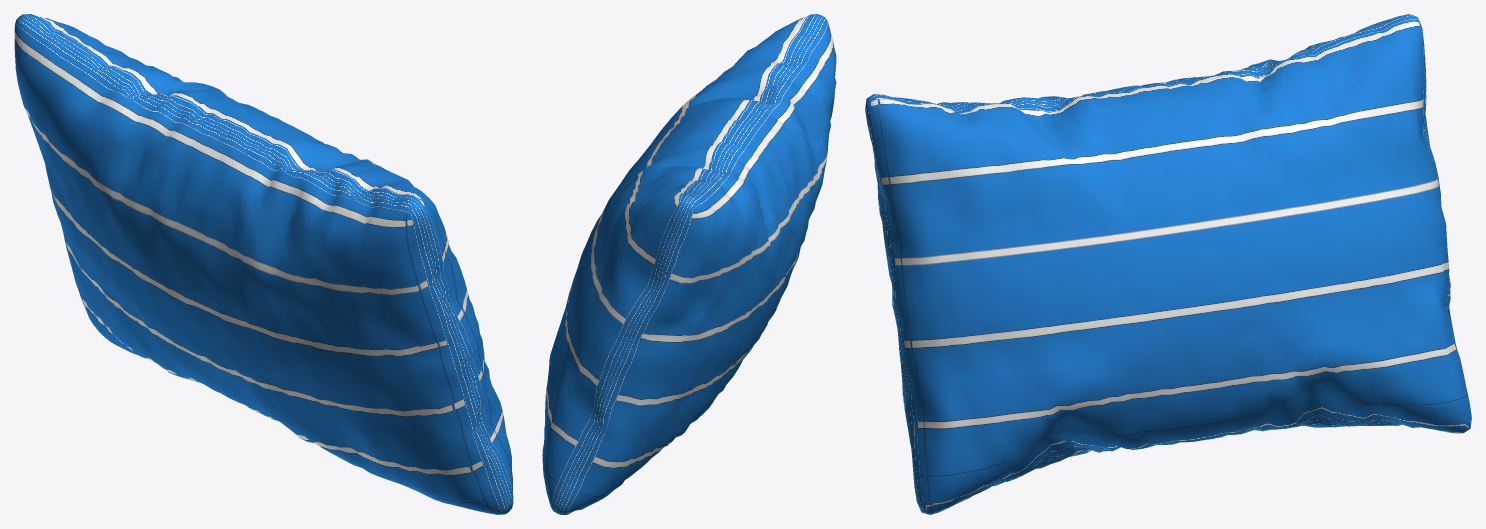
The model's file is pillow22.obj.
3 views of the same model, side by side, from view 1: azimuth 30°, elevation 25°; view 2: azimuth 150°, elevation 25°; view 3: azimuth 270°, elevation 25° (orthographic). The views are drawn at different scales.
Visible parts, largest first — view 1: Cubo.015_Cubo.018; view 2: Cubo.015_Cubo.018; view 3: Cubo.015_Cubo.018.
Part boxes in pixels (box(x1,y1,x2,y2)): Cubo.015_Cubo.018: box(14, 14, 513, 514); Cubo.015_Cubo.018: box(542, 14, 836, 514); Cubo.015_Cubo.018: box(865, 14, 1471, 514).
Bounding box in the file's own units: 15.15 × 20.37 × 29.17.
1 material, 1 textured.
